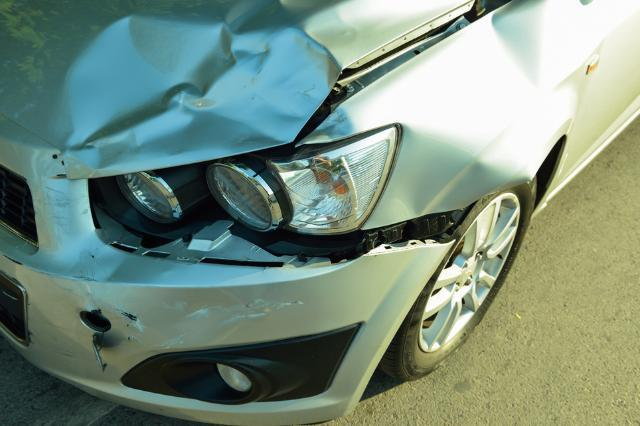Bonnet: (49, 0, 337, 158)
Bumper: (63, 235, 440, 400)
Fender: (409, 20, 570, 190)
Light: (93, 153, 384, 254)
